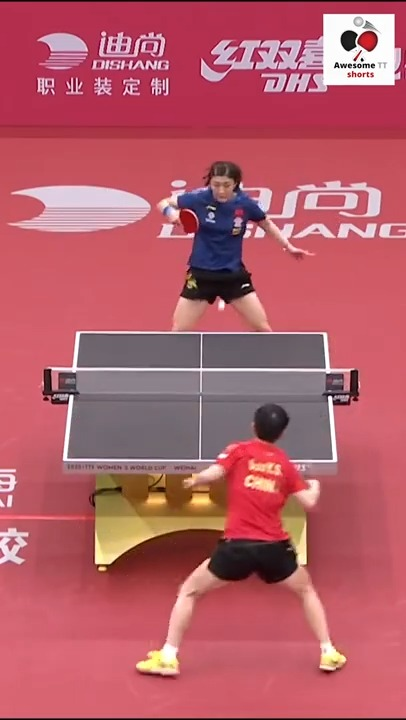Ball: (217, 298, 228, 313)
